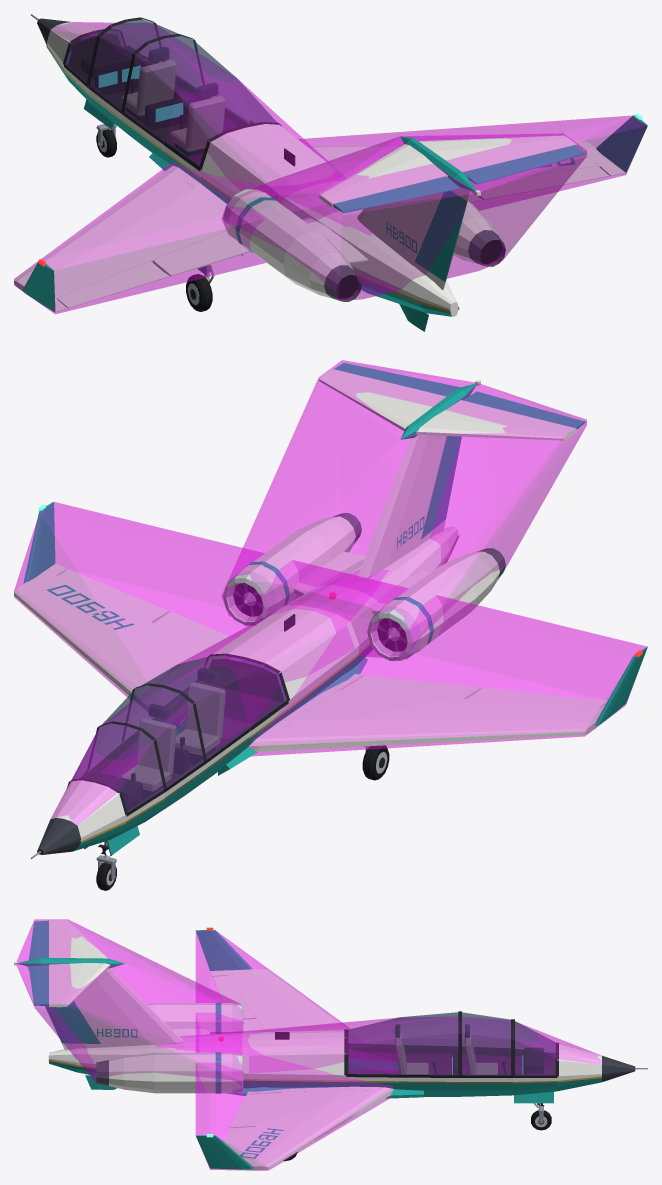
Rendered from plane_jet.glb.
3 views of the same model, one above another, from view 1: azimuth 30°, elevation 25°; view 2: azimuth 150°, elevation 25°; view 3: azimuth 270°, elevation 25° (orthographic). The views are drawn at different scales.
Visible parts, largest first — view 1: Body, Col_Tail, Col_Wing, Col_Body, Glass_Canopy, Elevator, Rudder, Flap_L, Aileron_R, Aileron_L, Canopy, Glass_Windshield (+1 smaller); view 2: Body, Col_Wing, Col_Tail, Col_Body, Glass_Canopy, Glass_Windshield, Elevator, Flap_L, Rudder, Canopy, Aileron_R, Flap_R (+2 smaller); view 3: Body, Col_Wing, Col_Tail, Col_Body, Glass_Canopy, Glass_Windshield, Elevator, Rudder, Canopy, Flap_R, Aileron_L, Aileron_R.
Part boxes in pixels (box(x1,y1,x2,y2)): Body: box(14, 14, 647, 331); Col_Tail: box(221, 133, 586, 300); Col_Wing: box(14, 115, 646, 314); Col_Body: box(51, 22, 371, 235); Glass_Canopy: box(89, 19, 276, 166); Elevator: box(333, 145, 585, 213); Rudder: box(415, 191, 467, 281); Flap_L: box(153, 231, 250, 276); Aileron_R: box(472, 166, 609, 199); Aileron_L: box(57, 261, 168, 308); Canopy: box(86, 17, 281, 171); Glass_Windshield: box(65, 20, 153, 83); Body: box(14, 369, 647, 879); Col_Wing: box(14, 502, 646, 756); Col_Tail: box(221, 360, 586, 658); Col_Body: box(51, 570, 388, 825); Glass_Canopy: box(100, 656, 286, 787); Glass_Windshield: box(72, 723, 163, 812); Elevator: box(334, 363, 585, 429); Flap_L: box(341, 675, 481, 698); Rudder: box(421, 436, 461, 539); Canopy: box(96, 653, 289, 791); Aileron_R: box(58, 569, 168, 622); Flap_R: box(153, 612, 234, 652); Body: box(14, 920, 647, 1170); Col_Wing: box(195, 931, 393, 1170); Col_Tail: box(16, 919, 241, 1091); Col_Body: box(157, 1016, 601, 1074); Glass_Canopy: box(348, 1012, 512, 1075); Glass_Windshield: box(513, 1021, 556, 1075); Elevator: box(28, 920, 48, 1006); Rudder: box(45, 1001, 100, 1043); Canopy: box(344, 1011, 514, 1077); Flap_R: box(230, 1092, 281, 1127); Aileron_L: box(212, 975, 255, 1019); Aileron_R: box(223, 1127, 255, 1151).
Bounding box in the file's own units: 8.82 × 3.4 × 11.41.
